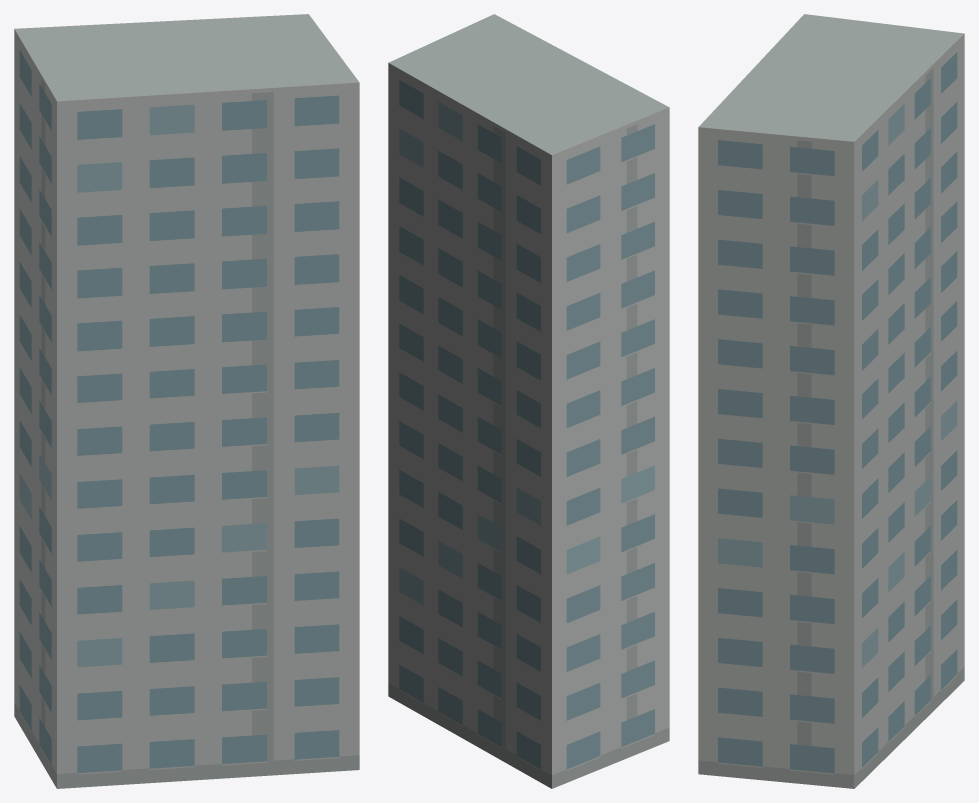
The model's file is residential-b2950b8f-2b52-4ebd-94e0-622589a9bf29.glb.
The picture shows the model from 3 angles, left to right: view 1: azimuth 30°, elevation 25°; view 2: azimuth 150°, elevation 25°; view 3: azimuth 270°, elevation 25°; orthographic projection. The views are drawn at different scales.
Visible parts, largest first — view 1: residential-b2950b8f-2b52-4ebd-94e0-622589a9bf29.tmp; view 2: residential-b2950b8f-2b52-4ebd-94e0-622589a9bf29.tmp; view 3: residential-b2950b8f-2b52-4ebd-94e0-622589a9bf29.tmp.
Part boxes in pixels (bbox=[...]): residential-b2950b8f-2b52-4ebd-94e0-622589a9bf29.tmp: bbox=[14, 14, 359, 788]; residential-b2950b8f-2b52-4ebd-94e0-622589a9bf29.tmp: bbox=[388, 14, 669, 788]; residential-b2950b8f-2b52-4ebd-94e0-622589a9bf29.tmp: bbox=[698, 14, 964, 788].
Bounding box in the file's own units: 17.38 × 41 × 15.3.
